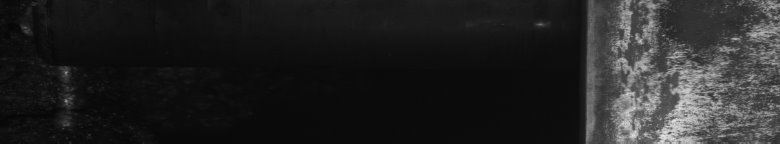kb: (607, 4, 776, 136)
